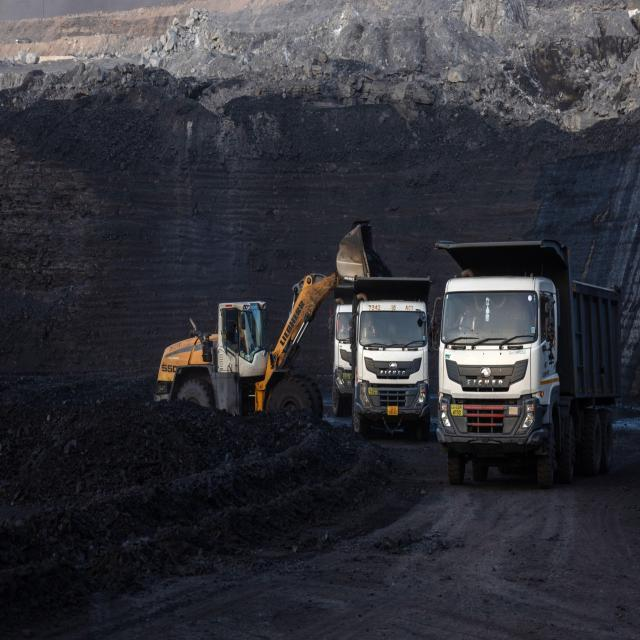buldozerpayloadergrader: (143, 217, 385, 417)
dump_truck: (439, 236, 622, 474), (350, 277, 428, 433), (335, 286, 352, 407)
